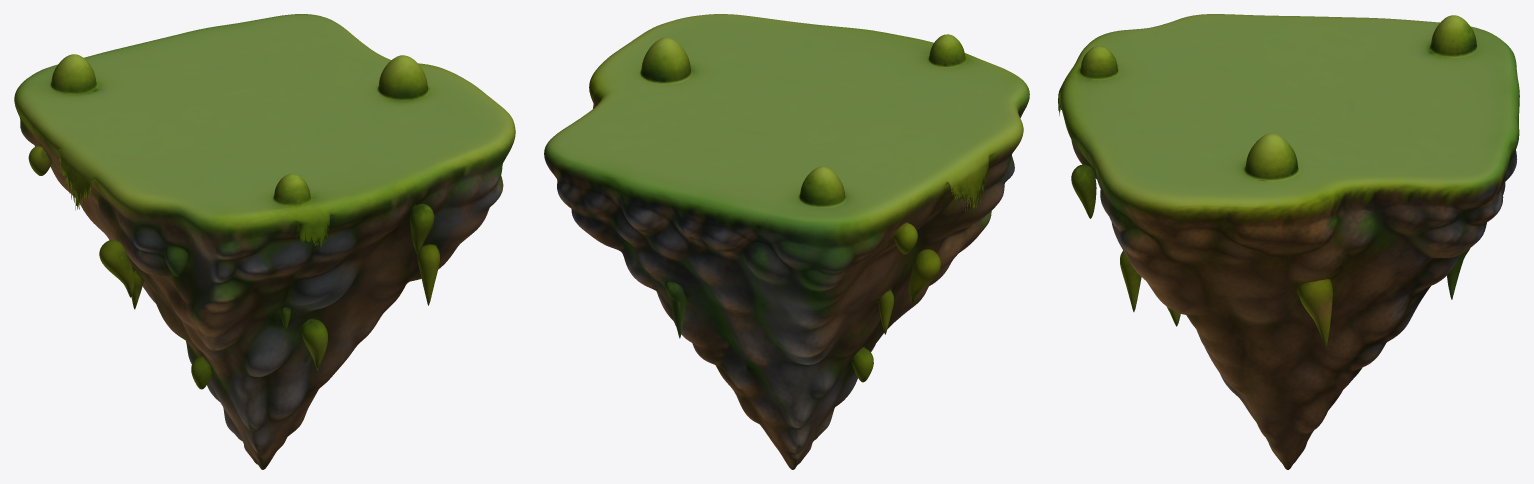
Rendered from floating-island.glb.
3 views of the same model, side by side, from view 1: azimuth 30°, elevation 25°; view 2: azimuth 150°, elevation 25°; view 3: azimuth 270°, elevation 25° (orthographic). The views are drawn at different scales.
Parts seen in each view (by area): view 1: material; view 2: material; view 3: material.
Boxes of the visible parts, x1=… form: material: x1=14, y1=14, x2=515, y2=469; material: x1=544, y1=14, x2=1029, y2=469; material: x1=1058, y1=14, x2=1519, y2=469.
Size of the model in its own units: 0.8456 by 0.818 by 0.8512.
1 material, 1 textured.
